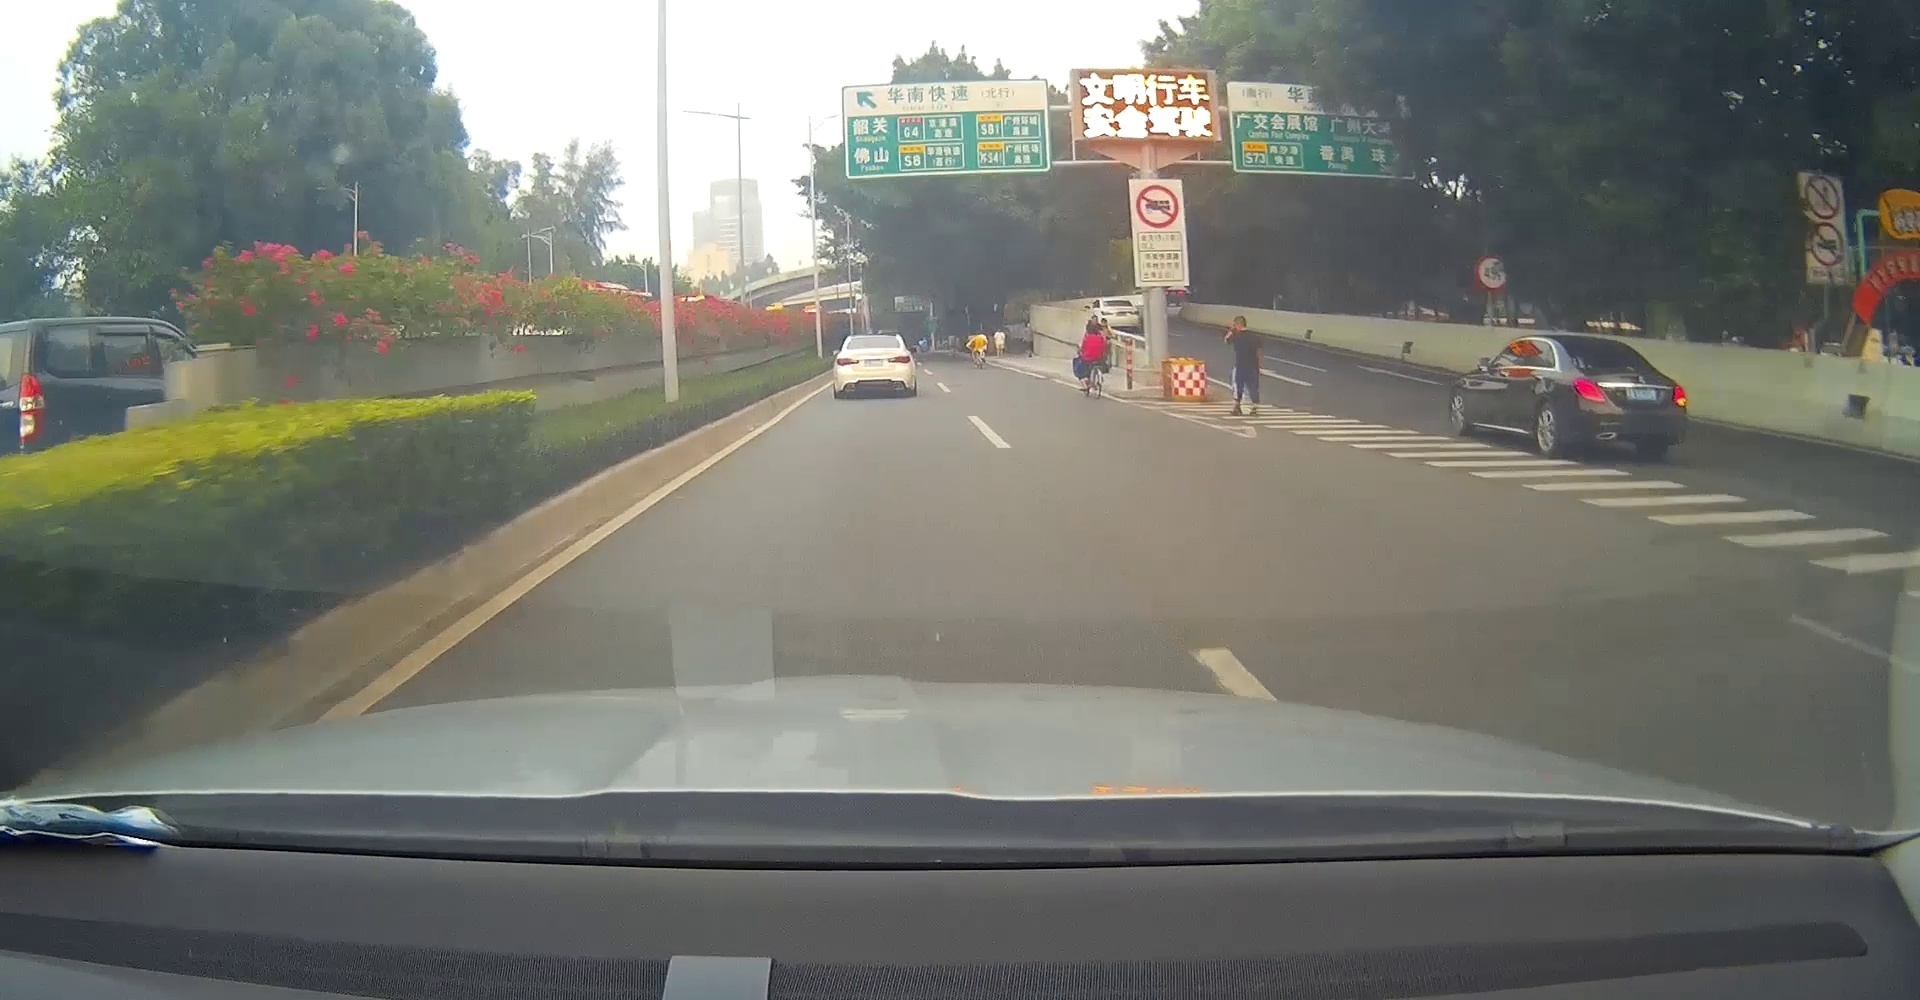L_light: (1575, 378, 1605, 404), (836, 357, 860, 367)
R_light: (1672, 385, 1688, 407), (888, 355, 910, 364)
T_light: (1599, 345, 1614, 349), (869, 338, 877, 340)
day-no: (833, 332, 916, 398)
day-right: (1558, 335, 1691, 459)
